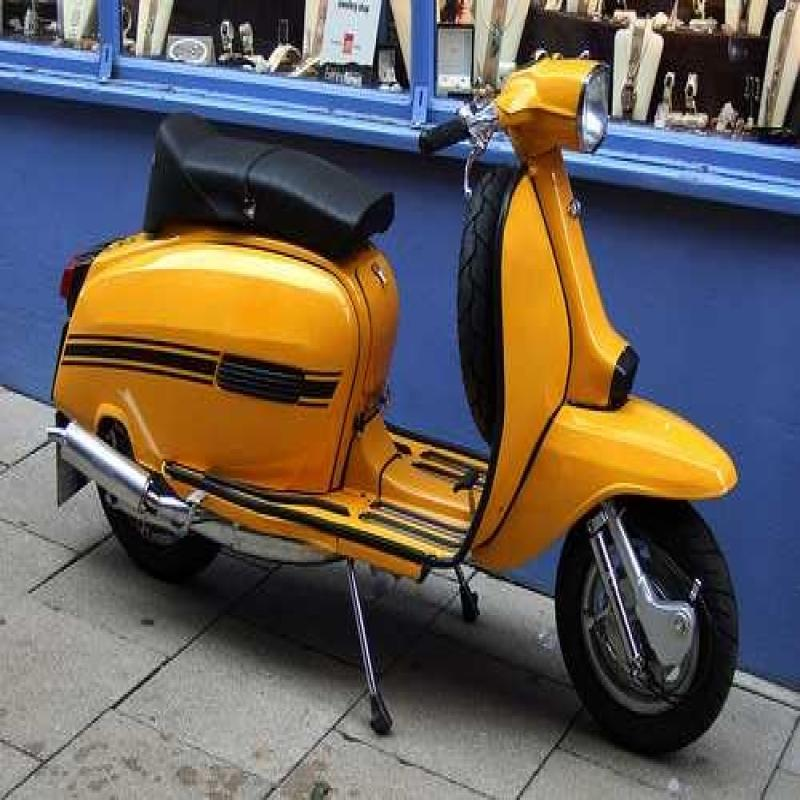bike: (59, 37, 750, 728)
